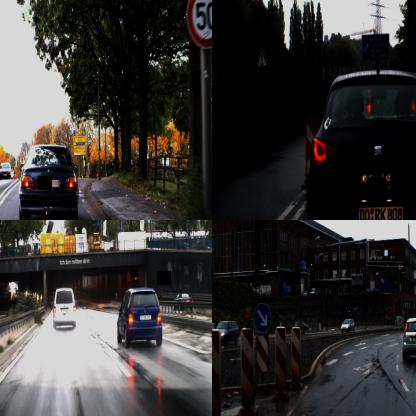DANGER: (256, 46, 270, 70)
keep right: (254, 303, 272, 333)
speed limit 50: (186, 0, 212, 49)
